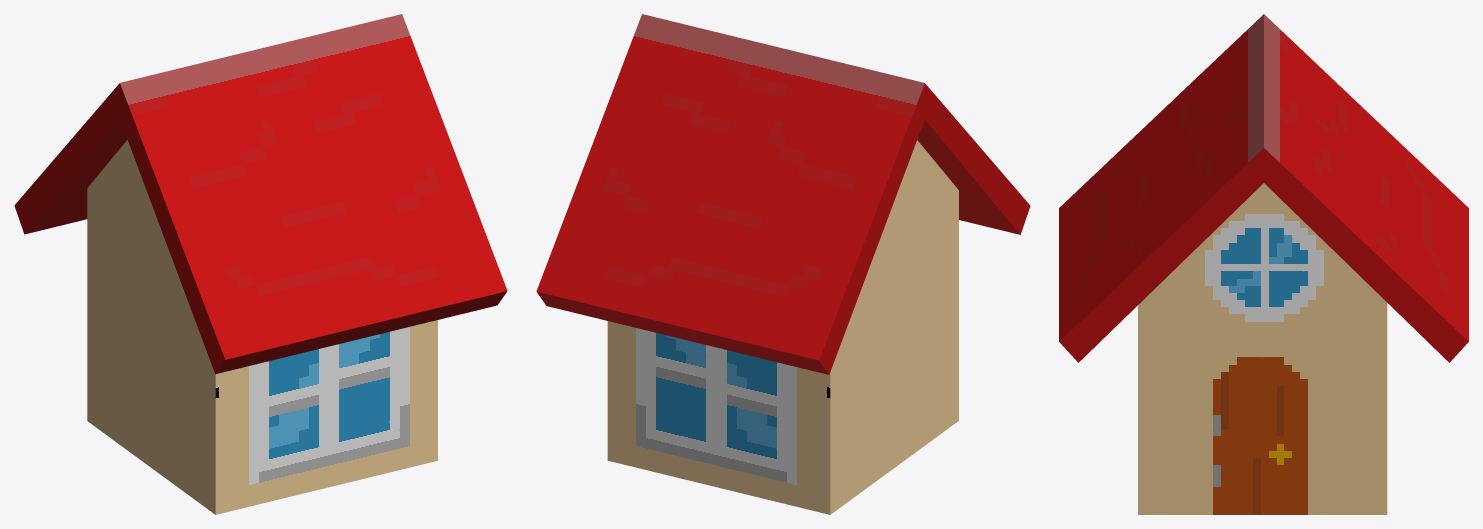
File: Cabane.glb
3 renders of one model, left to right at view 1: azimuth 30°, elevation 25°; view 2: azimuth 150°, elevation 25°; view 3: azimuth 270°, elevation 25°, orthographic. The views are drawn at different scales.
Parts seen in each view (by area): view 1: Cube; view 2: Cube; view 3: Cube.
Boxes of the visible parts, x1,y1,x2,y2 form: Cube: (14, 14, 507, 514); Cube: (536, 14, 1030, 514); Cube: (1059, 14, 1468, 514).
Bounding box in the file's own units: 3.3 × 4.39 × 4.27.
Materials: 1 (1 with a texture image).
